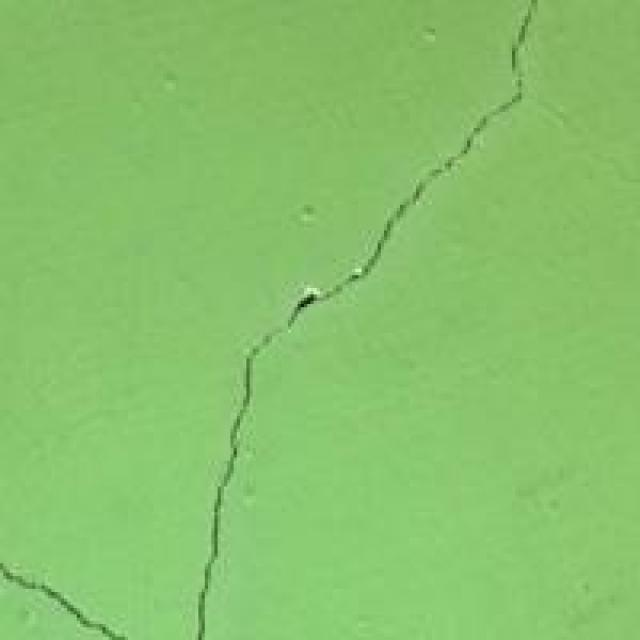crack: (128, 77, 637, 637)
